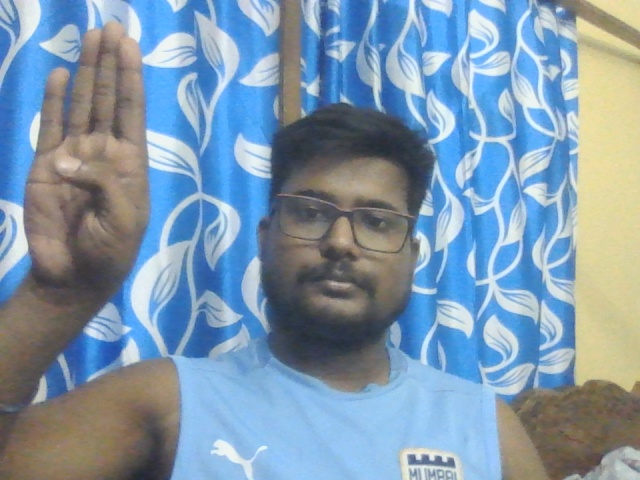B: (23, 20, 150, 281)
